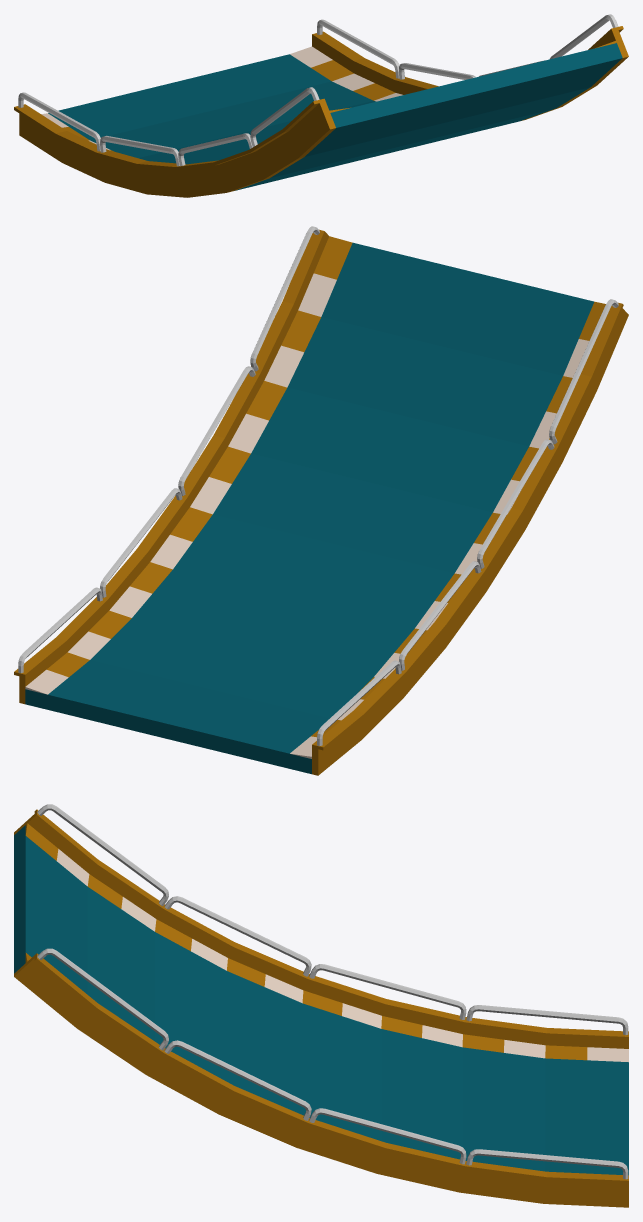
File: ascent-45_m.FBX
3 views of the same model, one above another, from view 1: azimuth 30°, elevation 25°; view 2: azimuth 150°, elevation 25°; view 3: azimuth 270°, elevation 25° (orthographic).
Parts seen in each view (by area): view 1: ascent-45_m, wall_r, wall_l, curbs_l, curbs_r; view 2: ascent-45_m, wall_r, wall_l, curbs_l, curbs_r; view 3: ascent-45_m, wall_l, wall_r, curbs_r.
Part boxes in pixels (<box>): ascent-45_m: <box>48,43,622,190</box>; wall_r: <box>14,87,335,197</box>; wall_l: <box>312,14,628,120</box>; curbs_l: <box>290,41,616,101</box>; curbs_r: <box>41,107,350,151</box>; ascent-45_m: <box>25,242,593,774</box>; wall_r: <box>312,299,628,775</box>; wall_l: <box>14,226,329,704</box>; curbs_l: <box>25,236,352,694</box>; curbs_r: <box>290,301,605,758</box>; ascent-45_m: <box>14,825,628,1175</box>; wall_l: <box>14,948,628,1207</box>; wall_r: <box>14,804,628,1048</box>; curbs_r: <box>25,823,628,1062</box>.
Size of what is drawn, in the model's own units: 207 by 167 by 360.
